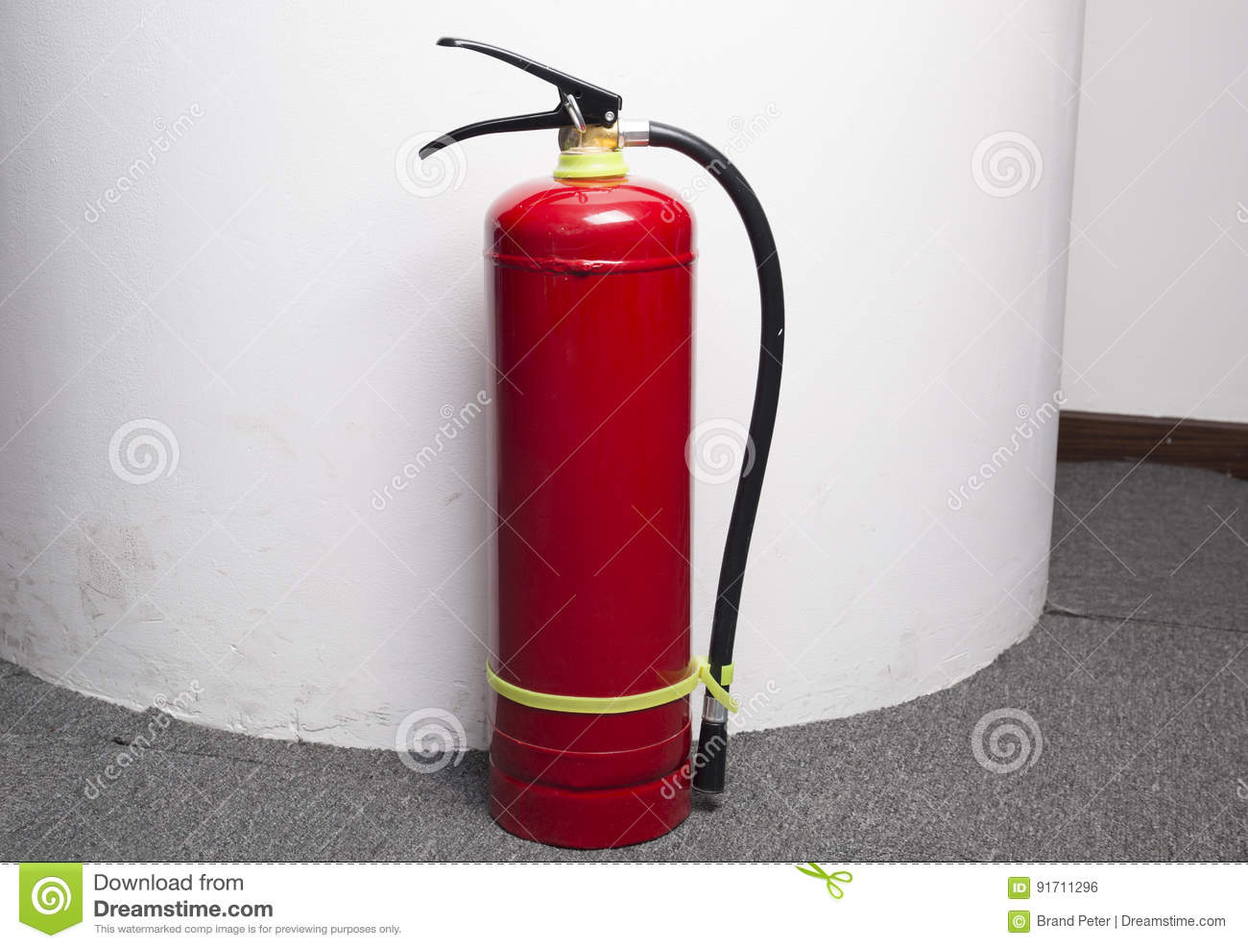fire_extinguisher: (416, 35, 786, 850)
